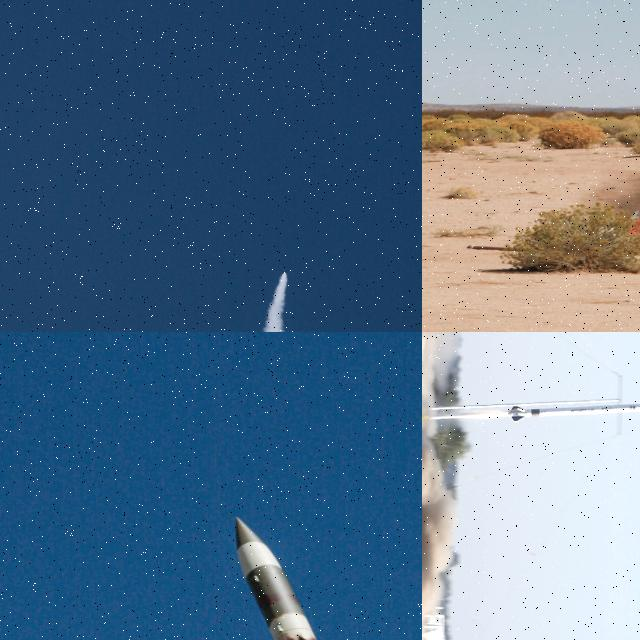Rocket: (231, 514, 363, 640), (508, 403, 640, 422), (281, 269, 287, 273)
